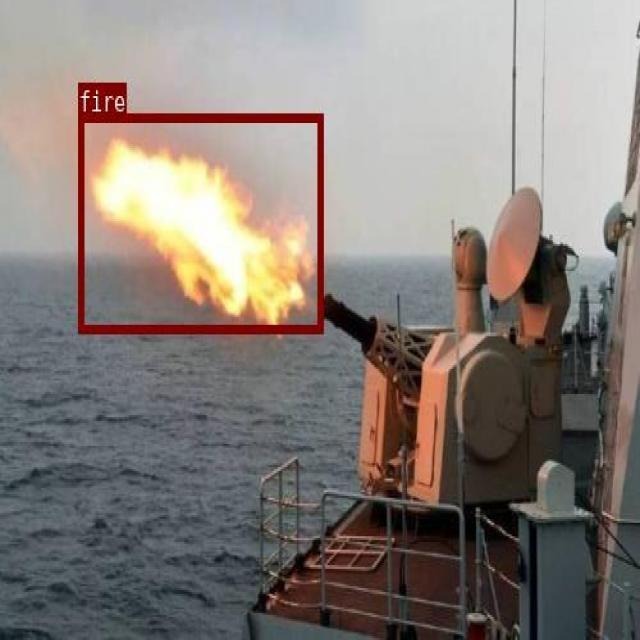fire: (77, 113, 322, 332)
